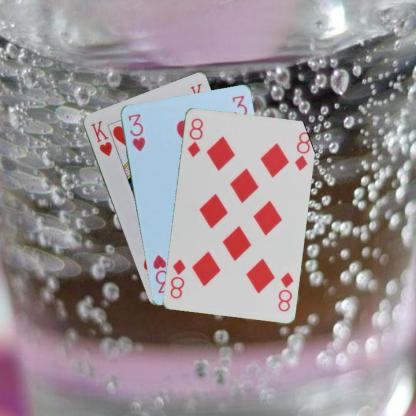3h: (126, 111, 146, 152)
8d: (275, 269, 295, 313), (184, 115, 204, 158)
Kh: (87, 117, 113, 158)
